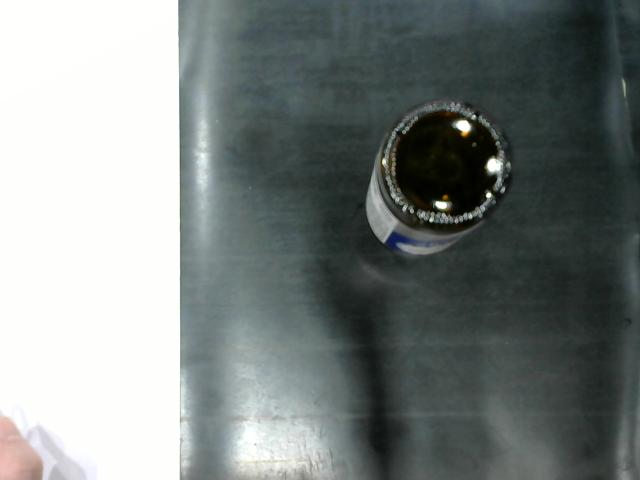glass: (343, 80, 527, 284)
